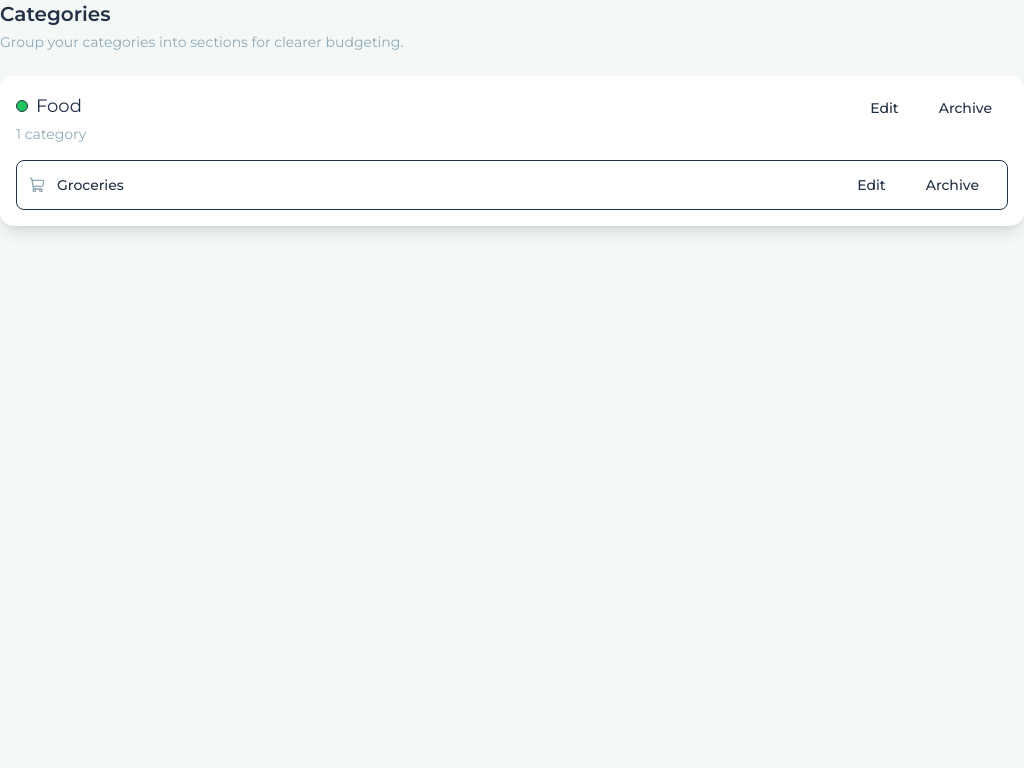
Test case: categories forms and actions › archive actions show confirmation dialog
Click the button with aria-label "archive section food" at [965, 108], box [923,92,1008,124]
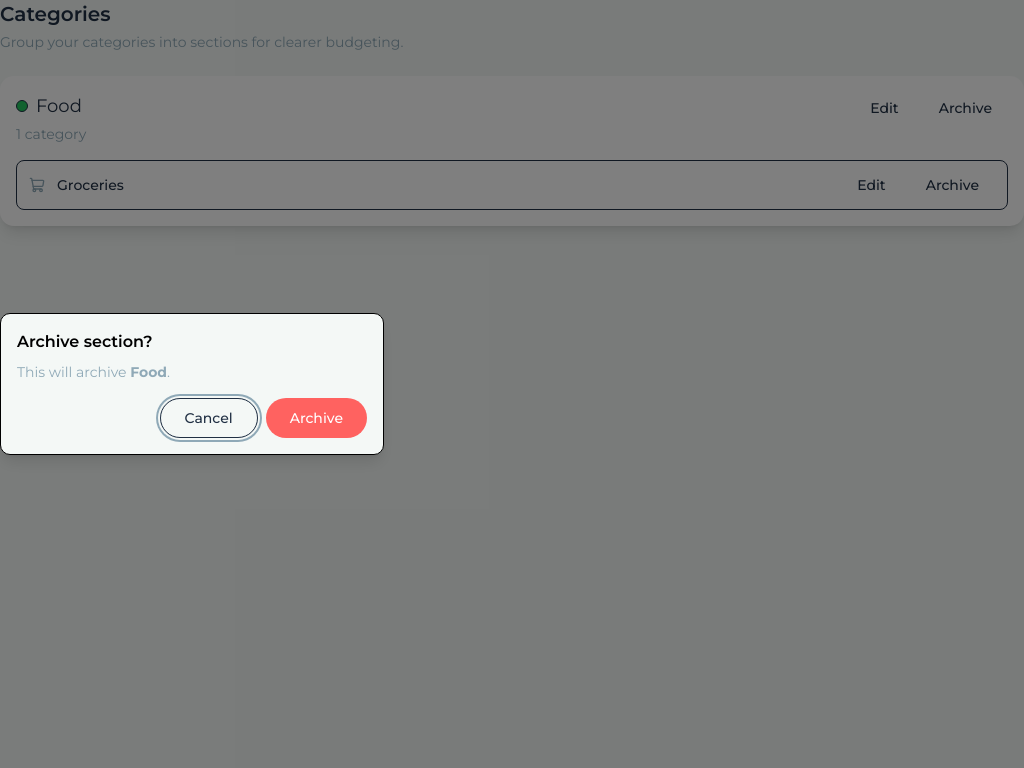
Expected: the dialog is shown, [0,313,384,455]
Expected: the heading "Archive section?" is shown, [17,332,152,351]
